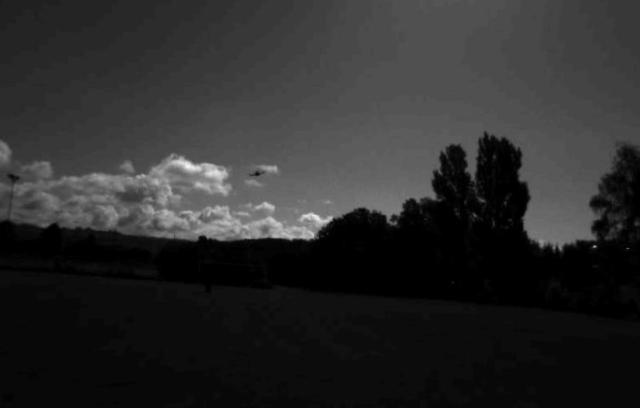drone: (248, 168, 266, 178)
